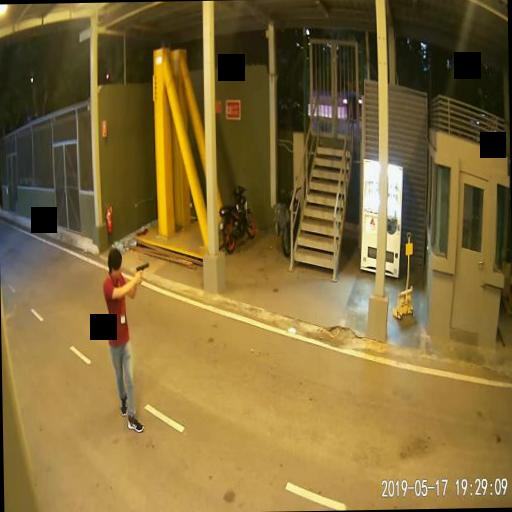Handgun: (134, 261, 148, 282)
